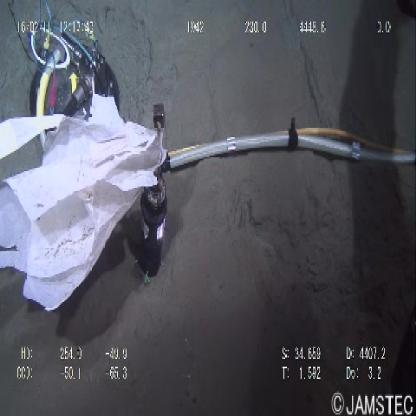Rov: (18, 6, 127, 117)
Rác: (1, 108, 167, 314)
